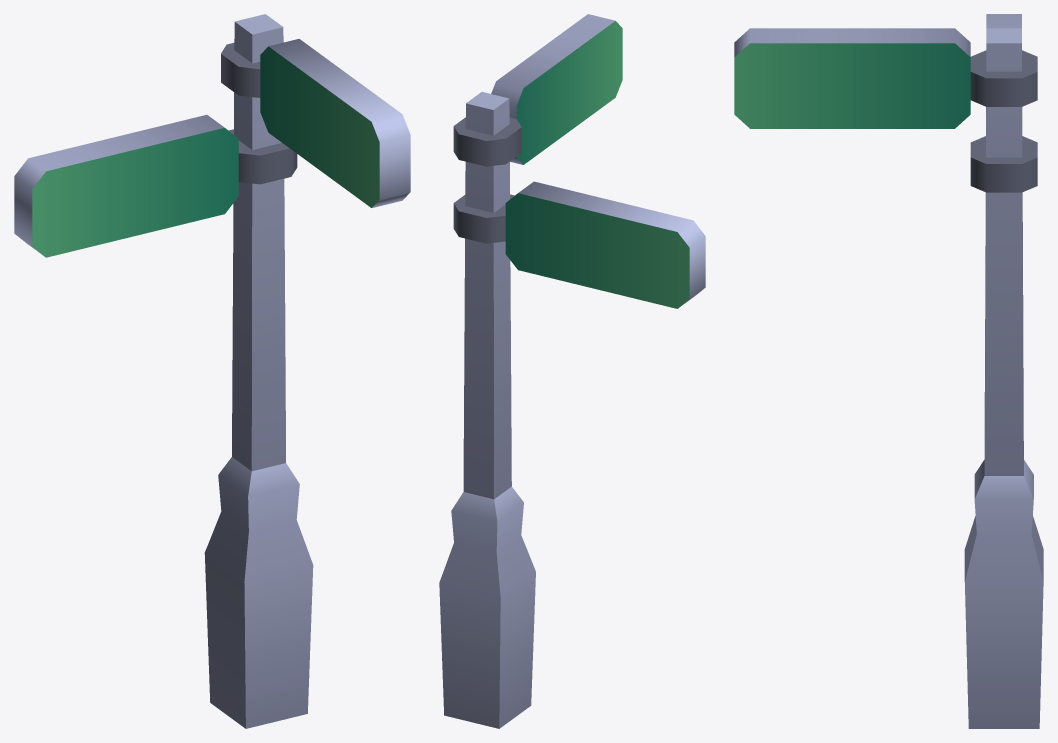
3 renders of one model, left to right at view 1: azimuth 30°, elevation 25°; view 2: azimuth 150°, elevation 25°; view 3: azimuth 270°, elevation 25°, orthographic. The views are drawn at different scales.
Parts seen in each view (by area): view 1: road-sign-street; view 2: road-sign-street; view 3: road-sign-street.
Boxes of the visible parts, <box> form: road-sign-street: <box>14,14,410,728</box>; road-sign-street: <box>439,14,705,728</box>; road-sign-street: <box>734,14,1043,728</box>.
Size of the model in its own units: 2.1 by 5.07 by 2.1.
Materials: 1 (1 with a texture image).
